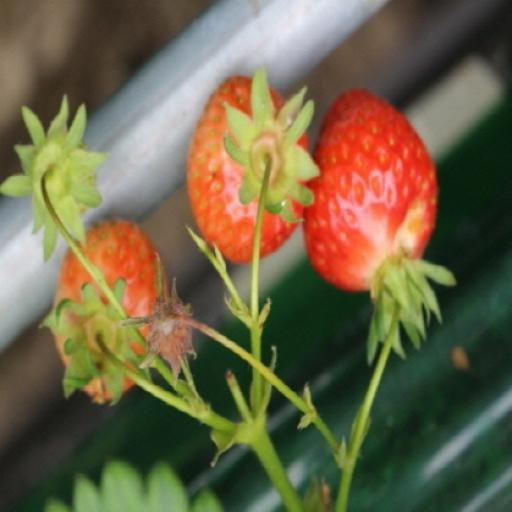Gray Mold: (309, 128, 389, 245)
